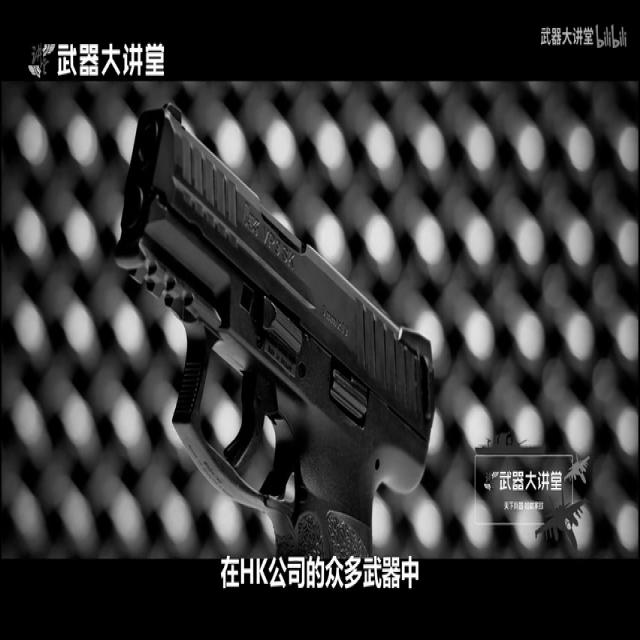Hand-Gun: (115, 89, 439, 566)
